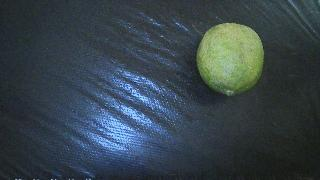DESECHO: (196, 23, 264, 96)
